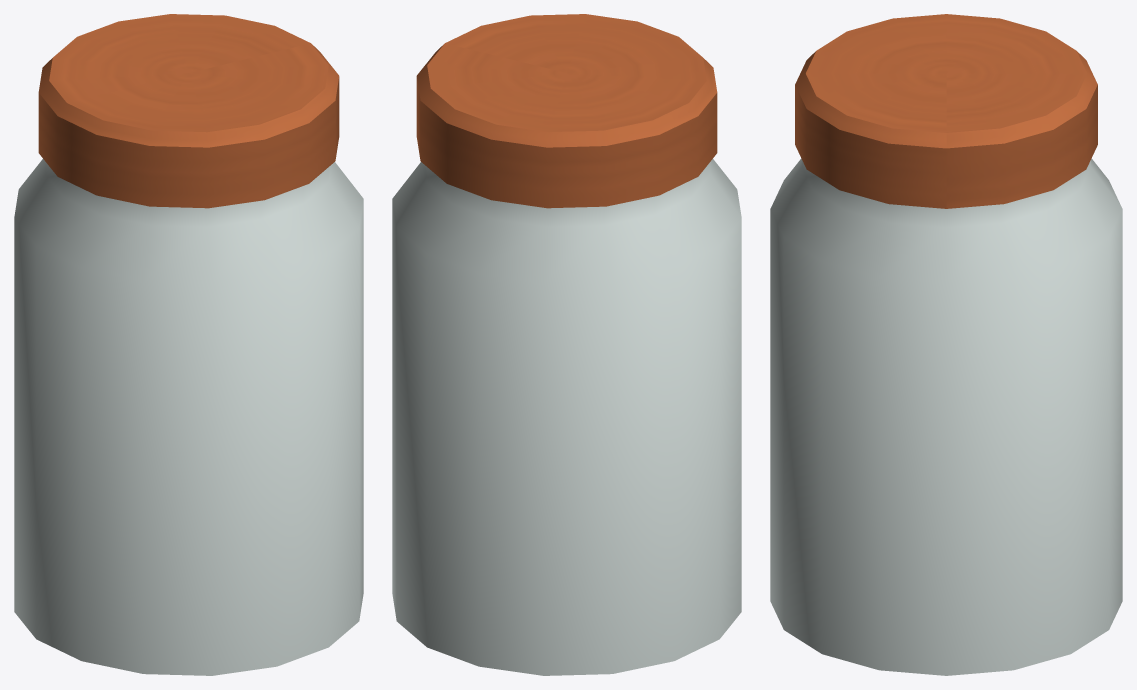
File: SM_Jar_L_Berry.fbx
3 renders of one model, left to right at view 1: azimuth 30°, elevation 25°; view 2: azimuth 150°, elevation 25°; view 3: azimuth 270°, elevation 25°, orthographic.
Visible parts, largest first — view 1: SM_Jar_L_Berry; view 2: SM_Jar_L_Berry; view 3: SM_Jar_L_Berry.
Boxes of the visible parts, x1,y1,x2,y2 form: SM_Jar_L_Berry: (14,14,363,675); SM_Jar_L_Berry: (392,14,741,675); SM_Jar_L_Berry: (770,14,1122,675).
Bounding box in the file's own units: 0.116 × 0.192 × 0.116.
3 materials, 3 textured.
